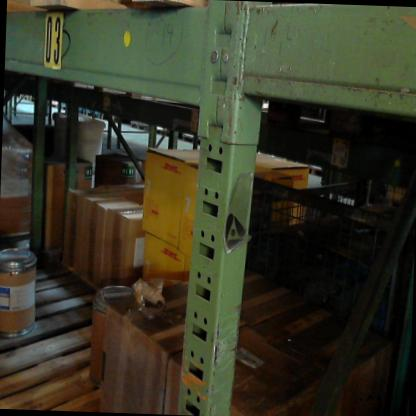pallet: (0, 248, 148, 410), (10, 0, 219, 17), (288, 160, 328, 178), (128, 116, 152, 132), (150, 128, 176, 138), (182, 132, 201, 144), (101, 113, 119, 125), (15, 92, 34, 100)
stillage: (244, 157, 414, 335)
